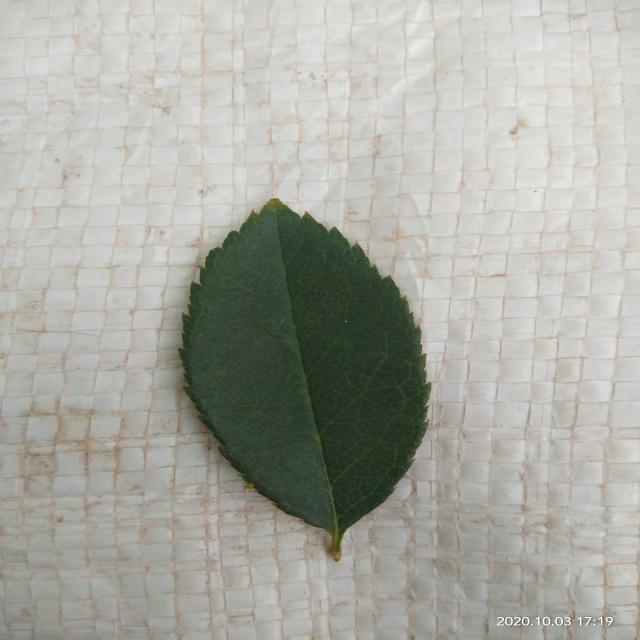rose: (180, 200, 430, 560)
